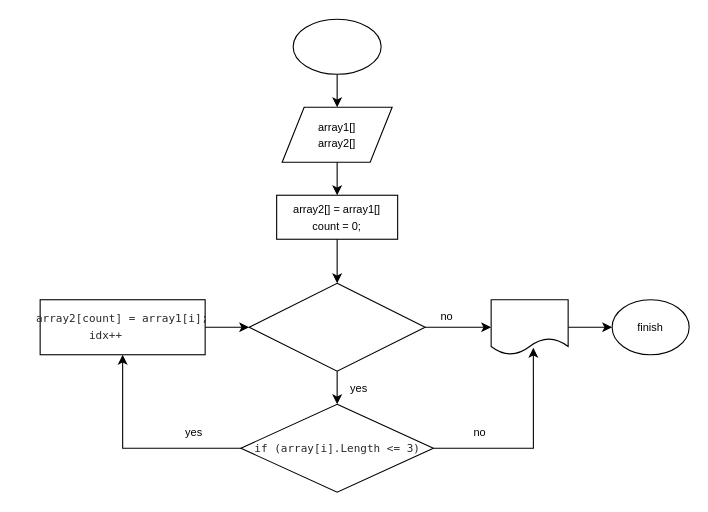
This 708x512 diagram has some shape labels left out. Here are the shapes that lost their labels. From the top down, the box of each, then its label:
(292, 18, 381, 74): Start
(248, 282, 425, 371): for(int i=0; i<array1.length;i++)
(490, 299, 568, 355): printArray
